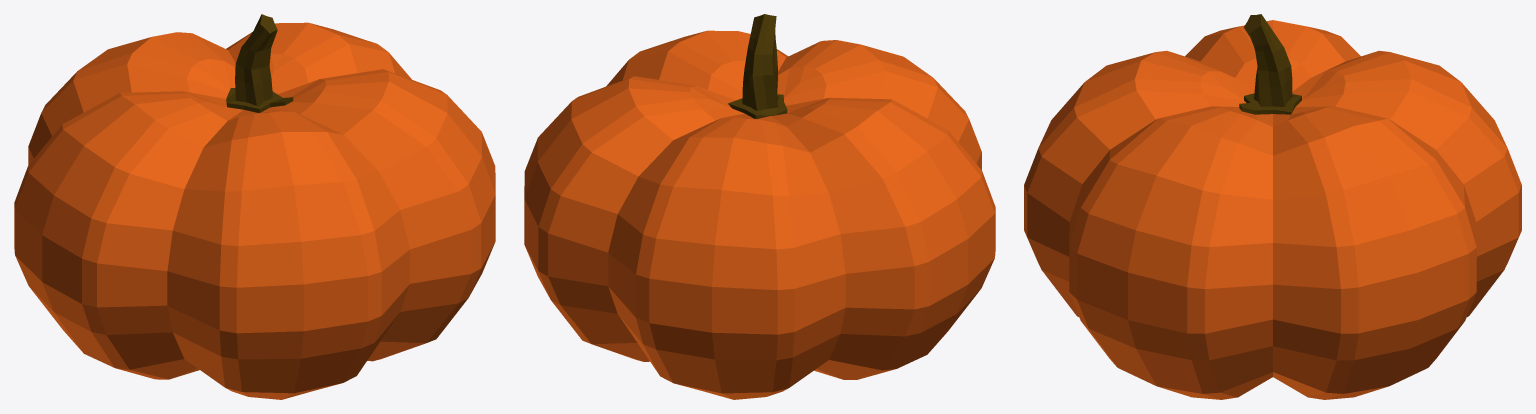
File: pumpkin.fbx
3 renders of one model, left to right at view 1: azimuth 30°, elevation 25°; view 2: azimuth 150°, elevation 25°; view 3: azimuth 270°, elevation 25°, orthographic. The views are drawn at different scales.
Parts seen in each view (by area): view 1: pumpkin; view 2: pumpkin; view 3: pumpkin.
Boxes of the visible parts, box(x1,y1,x2,y2) form: pumpkin: box(14, 14, 495, 399); pumpkin: box(524, 14, 995, 399); pumpkin: box(1024, 14, 1521, 399).
Size of the model in its own units: 210 by 166 by 216.
